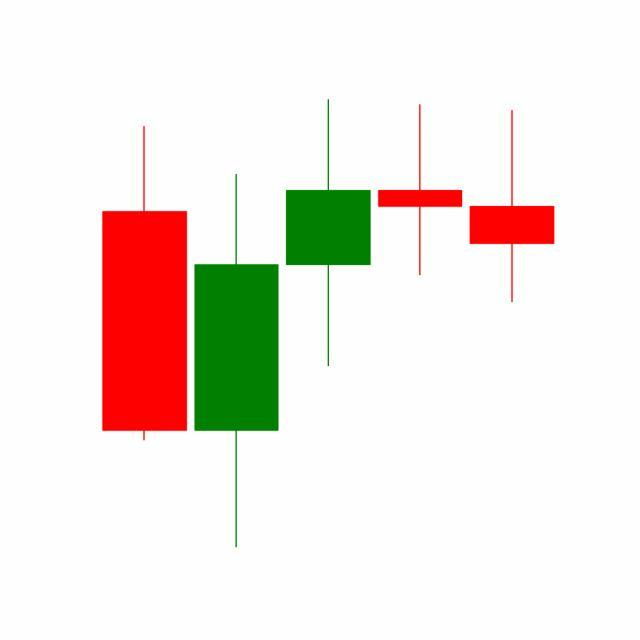Spinning Top: (374, 103, 468, 279)
